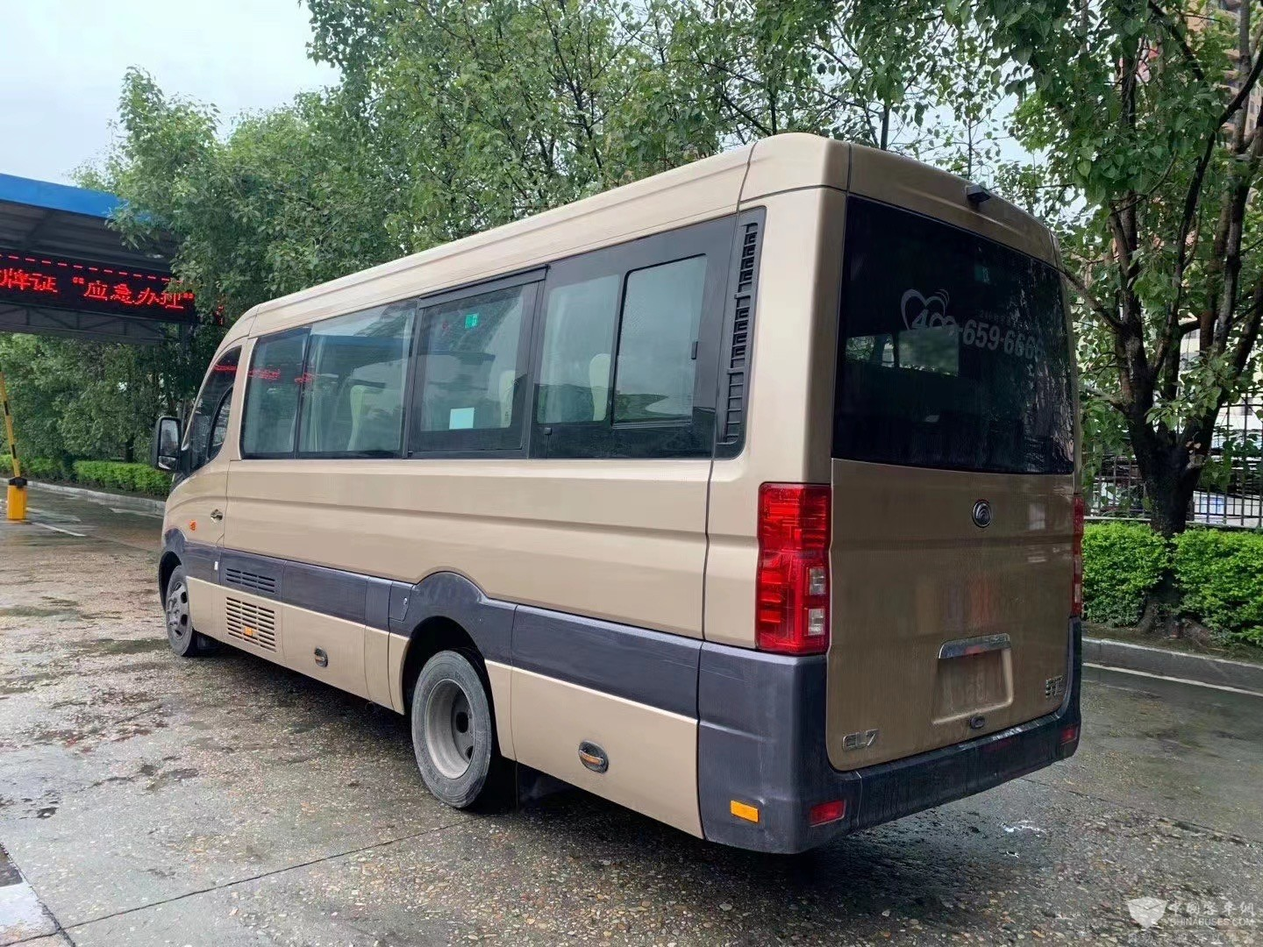midcar: (130, 145, 1102, 857)
